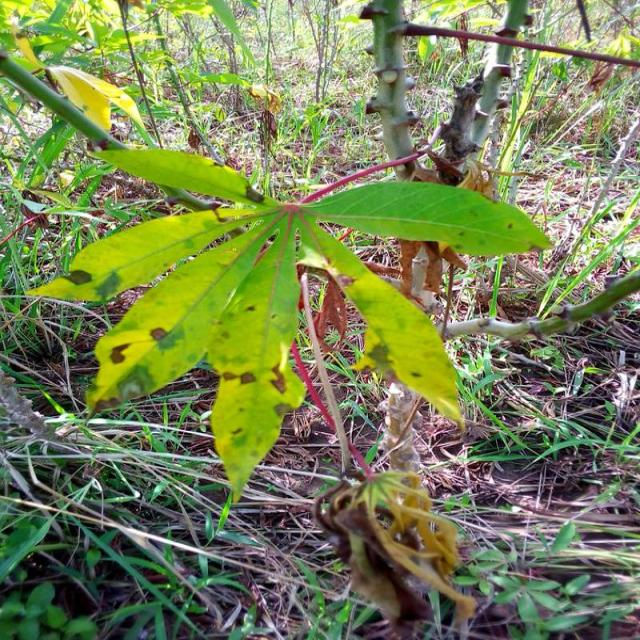cassava leaf: (26, 144, 553, 516)
